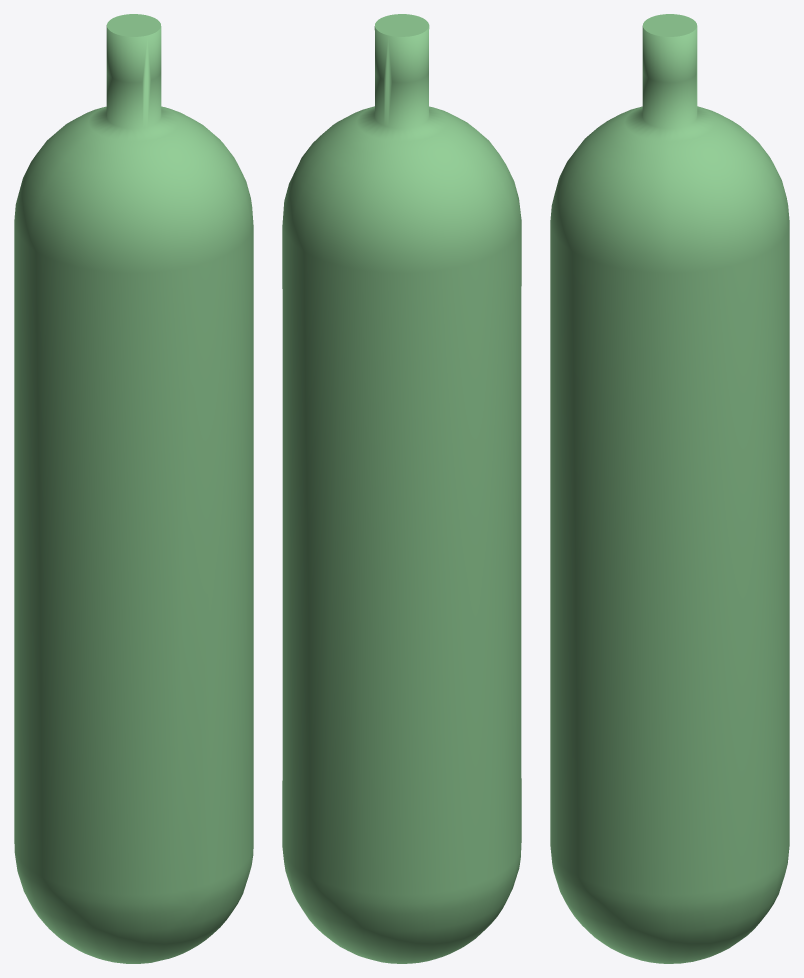
Rendered from tankSet3Tank_stainlessSteel_2.dae.
3 views of the same model, side by side, from view 1: azimuth 30°, elevation 25°; view 2: azimuth 150°, elevation 25°; view 3: azimuth 270°, elevation 25° (orthographic).
Parts seen in each view (by area): view 1: tankSet3Tank_stainlessSteel_2; view 2: tankSet3Tank_stainlessSteel_2; view 3: tankSet3Tank_stainlessSteel_2.
Part boxes in pixels (<box>): tankSet3Tank_stainlessSteel_2: <box>14,14,253,963</box>; tankSet3Tank_stainlessSteel_2: <box>282,14,521,963</box>; tankSet3Tank_stainlessSteel_2: <box>550,14,789,963</box>.
Size of the model in its own units: 0.88 by 0.88 by 3.76.
